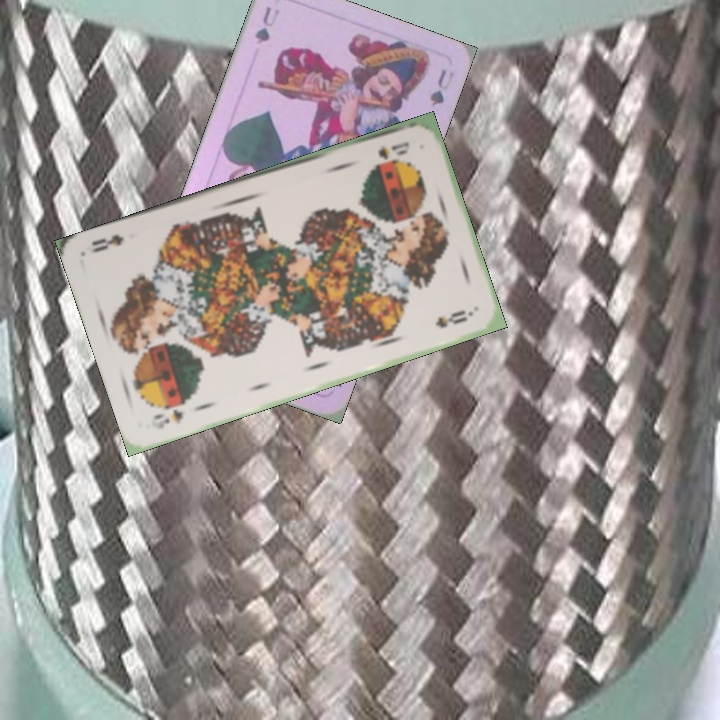GU: (250, 2, 282, 47)
SO: (147, 399, 191, 432), (374, 137, 412, 162)
